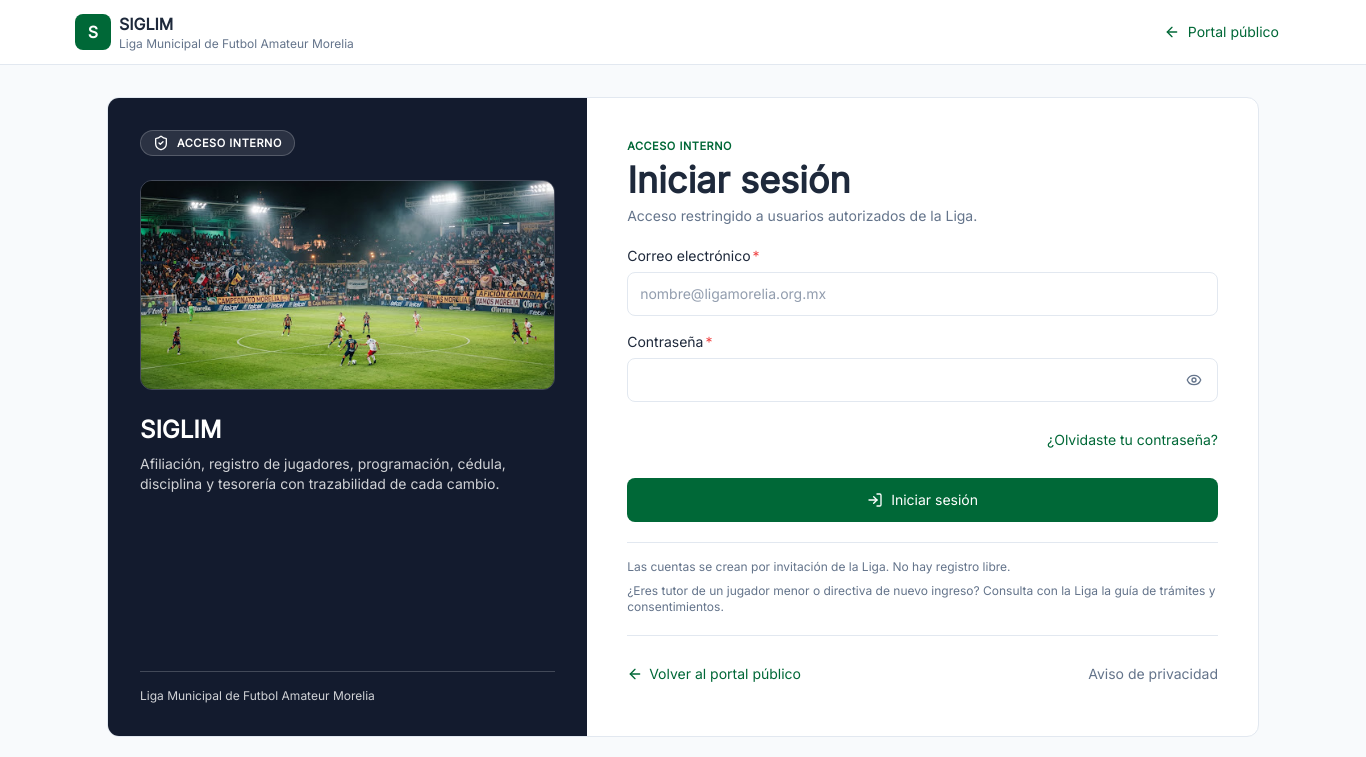
InicioSesion › H-01.2: explica el límite de intentos de Supabase Auth
Type "ana@ejemplo.mx" into the field labelled "Correo electrónico*" at (923, 294), box 627,272 -> 1218,316
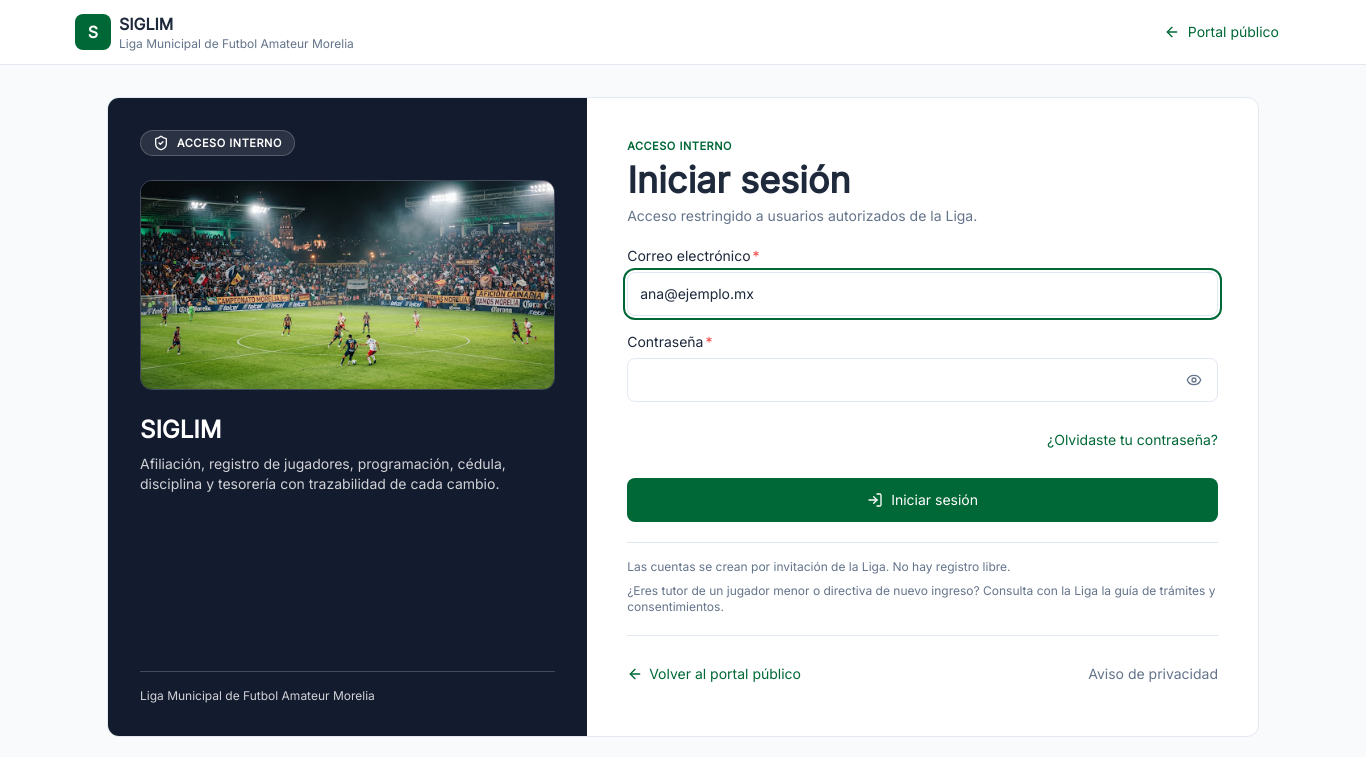
Type "frase secreta larga" into the password field labelled "Contraseña*" at (923, 380), box 627,358 -> 1218,402
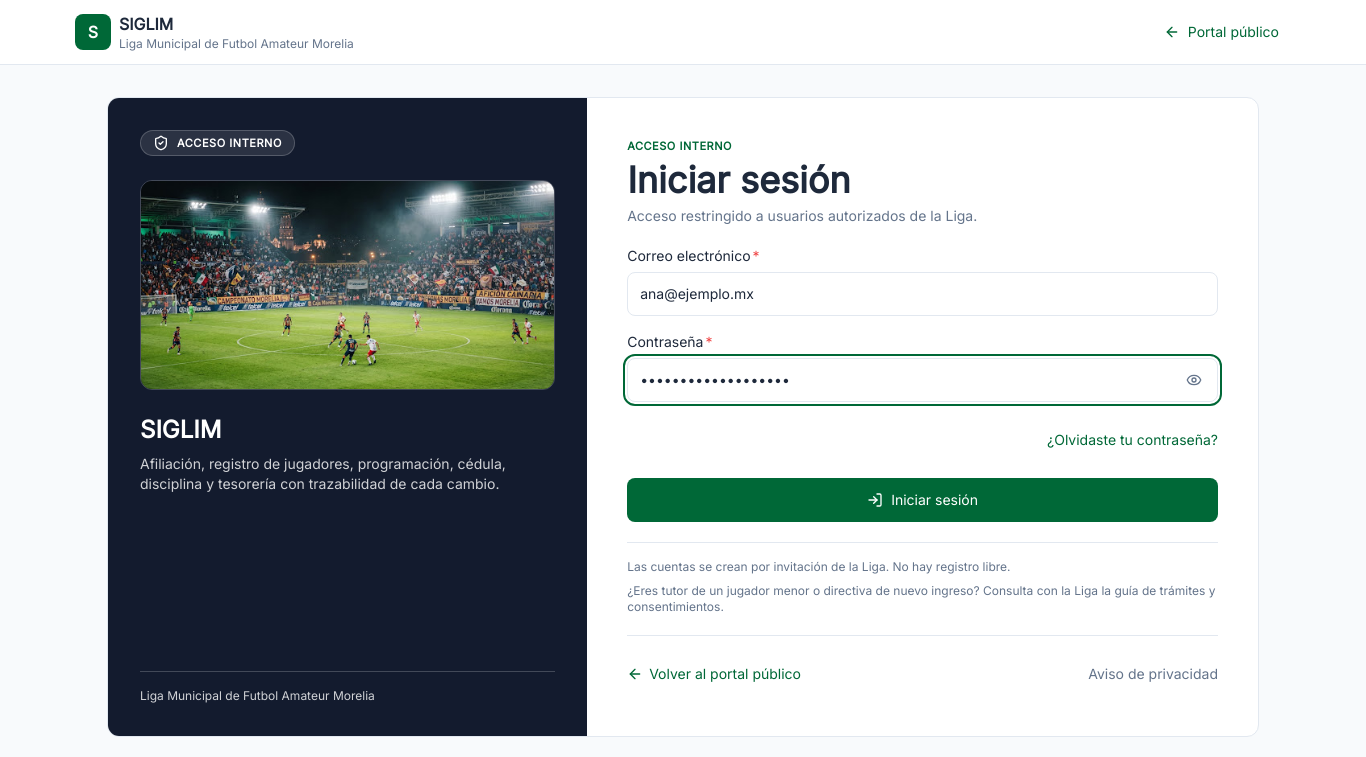
Click the button "Iniciar sesión" at (923, 500), box 627,478 -> 1218,522
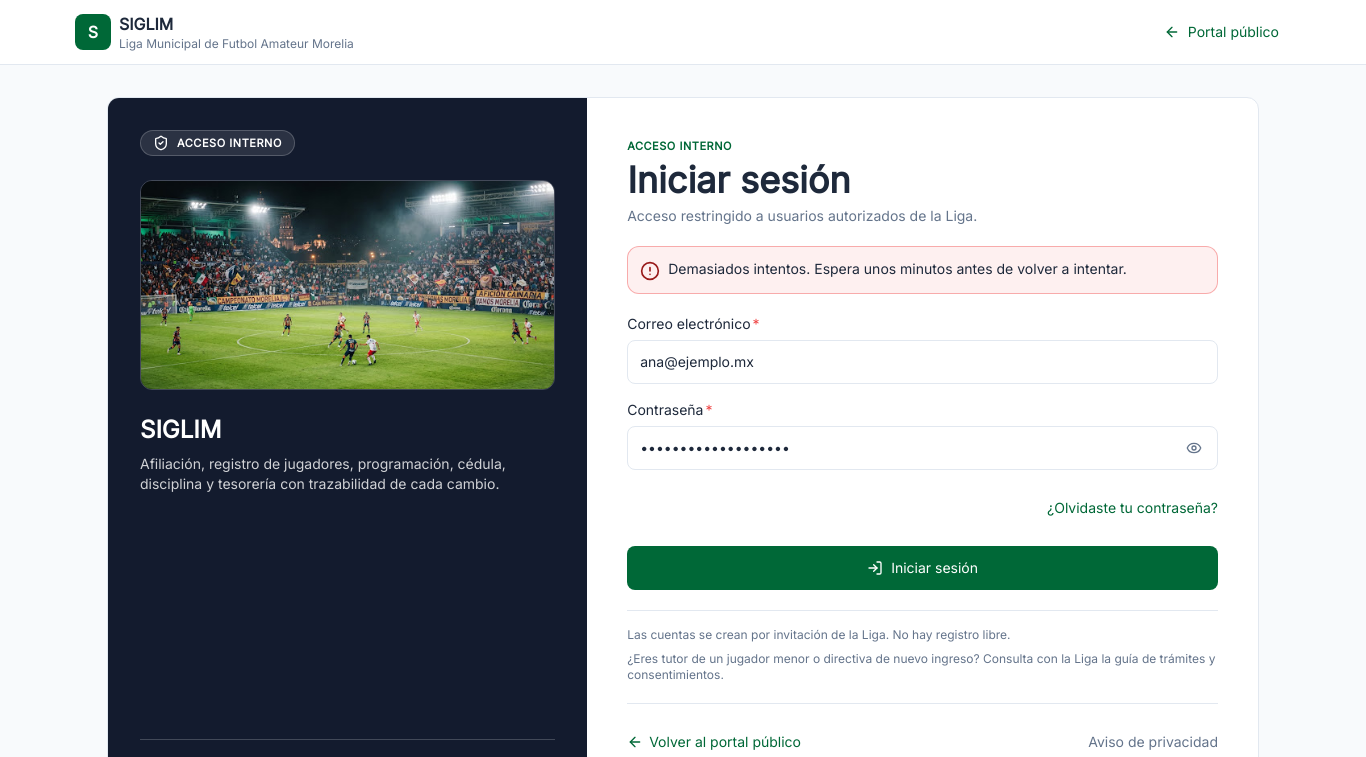
Now the message shows "Demasiados intentos", box 668,260 -> 1127,277
